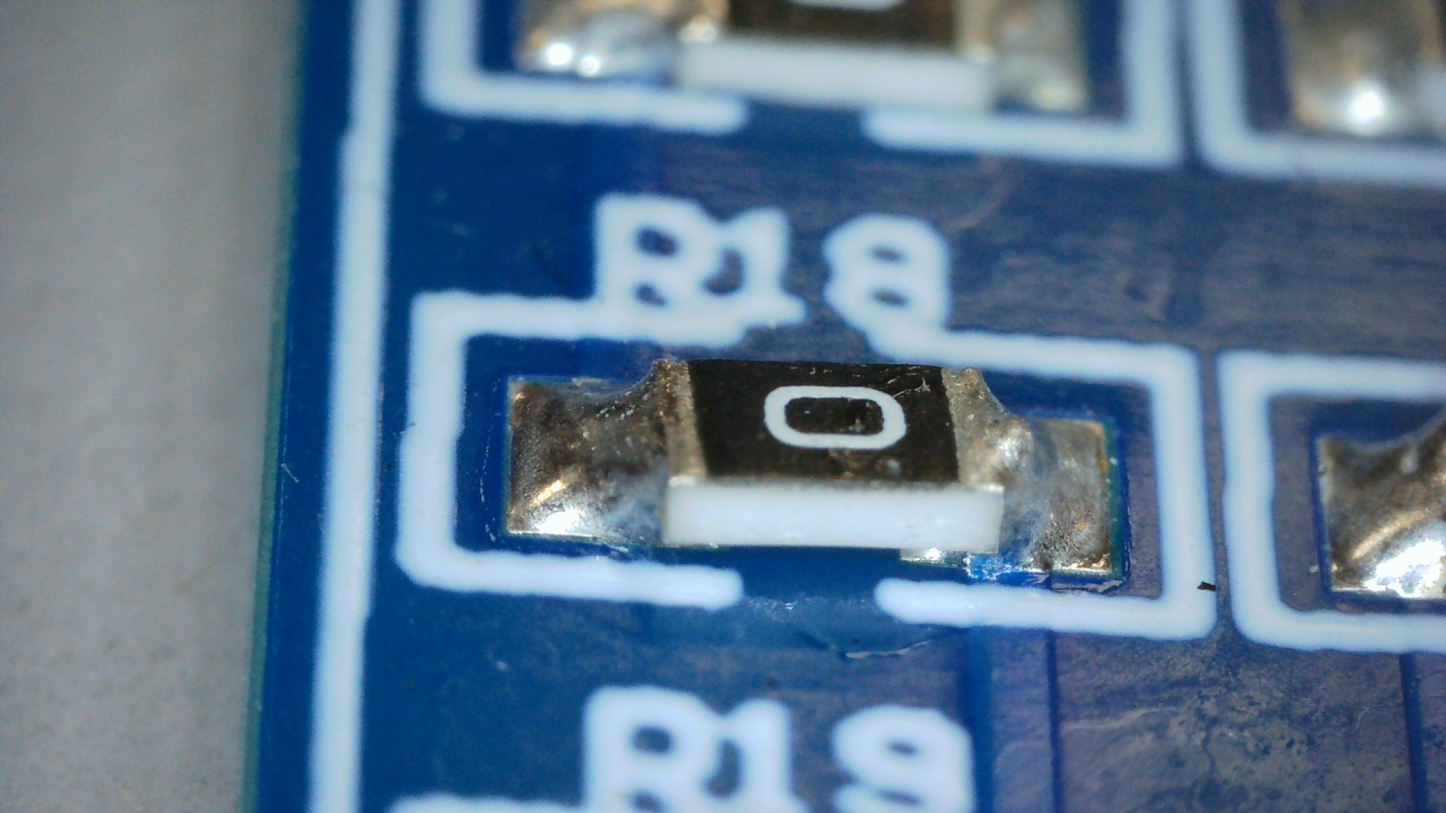NG: (944, 368, 1104, 554)
OK: (512, 361, 705, 531)
